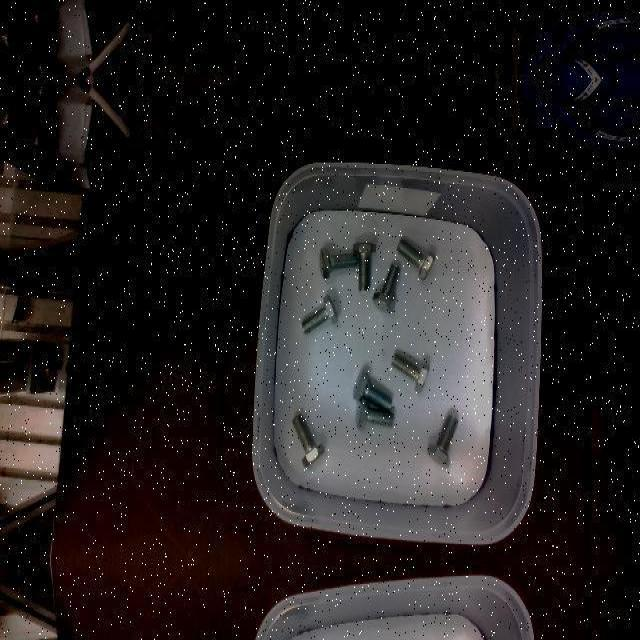screw: (352, 370, 392, 412), (292, 414, 324, 466), (396, 237, 435, 279), (427, 414, 458, 466), (390, 352, 428, 392), (301, 294, 337, 336), (372, 263, 401, 313), (356, 395, 395, 429), (319, 247, 357, 277), (353, 243, 376, 291)
